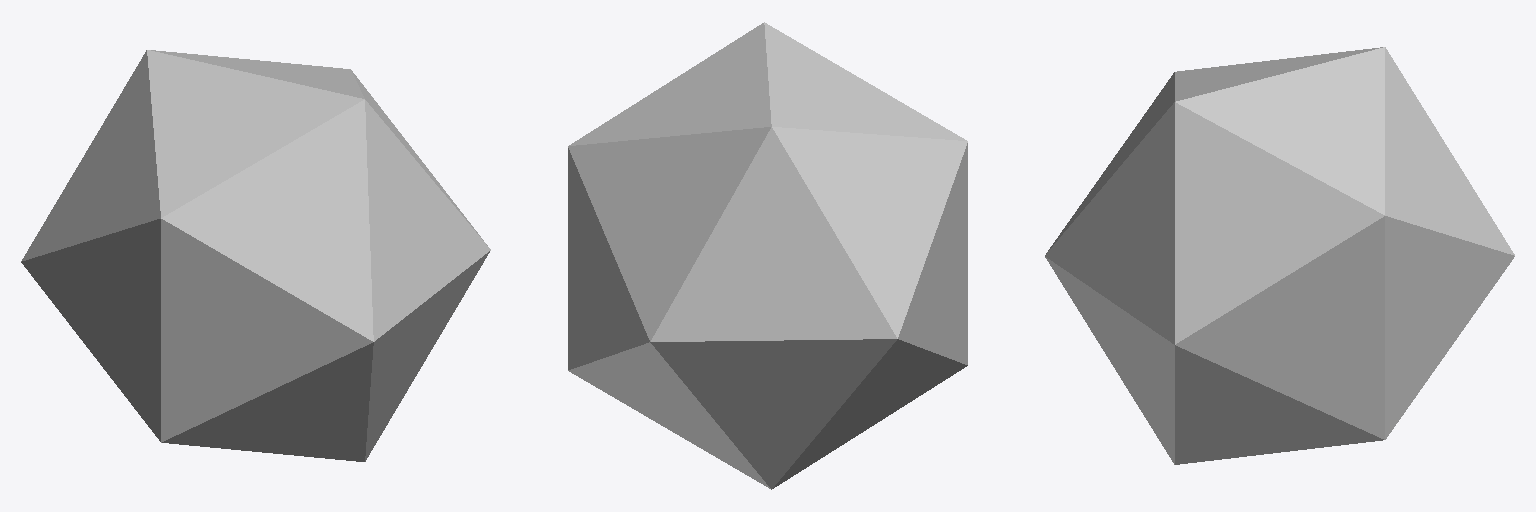
File: dShape.obj
3 renders of one model, left to right at view 1: azimuth 30°, elevation 25°; view 2: azimuth 150°, elevation 25°; view 3: azimuth 270°, elevation 25°, orthographic.
Visible parts, largest first — view 1: pPlatonic1; view 2: pPlatonic1; view 3: pPlatonic1.
Part boxes in pixels (bbox=[...]): pPlatonic1: bbox=[21, 50, 490, 461]; pPlatonic1: bbox=[568, 22, 967, 489]; pPlatonic1: bbox=[1045, 47, 1514, 464].
Bounding box in the file's own units: 0.7763 × 0.7383 × 0.868.